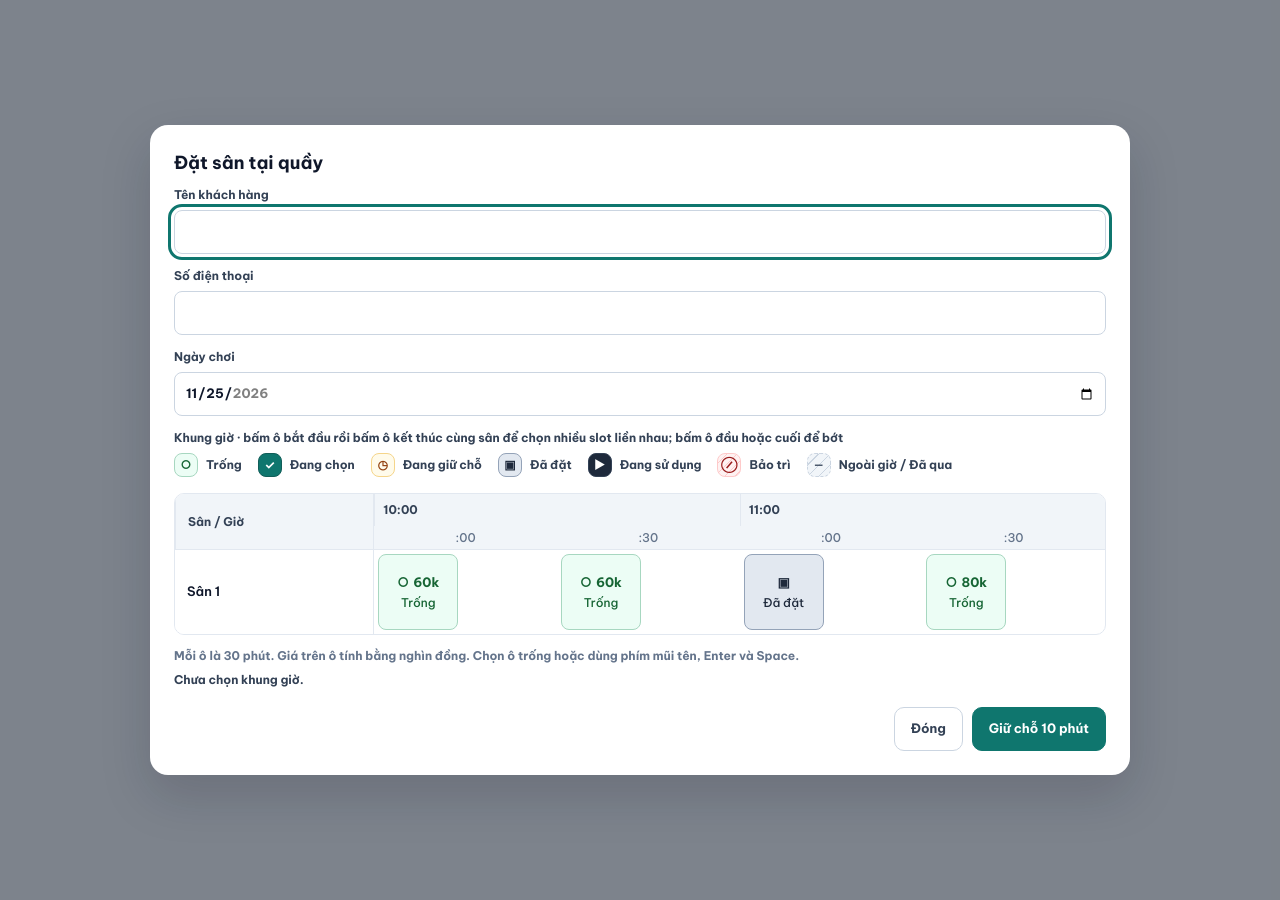
Test: giữ chỗ › đủ thông tin thì giữ chỗ, chuẩn hóa tên và hiện đồng hồ 10 phút
This screenshot has width=1280, height=900.
Expected: the table named "Lịch sân theo khung 30 phút" is shown, top-left (175, 494), bottom-right (1105, 634)
Type "  Nguyễn   Văn An " into the field labelled "Tên khách hàng" at (640, 232), box top-left (174, 210), bottom-right (1106, 254)
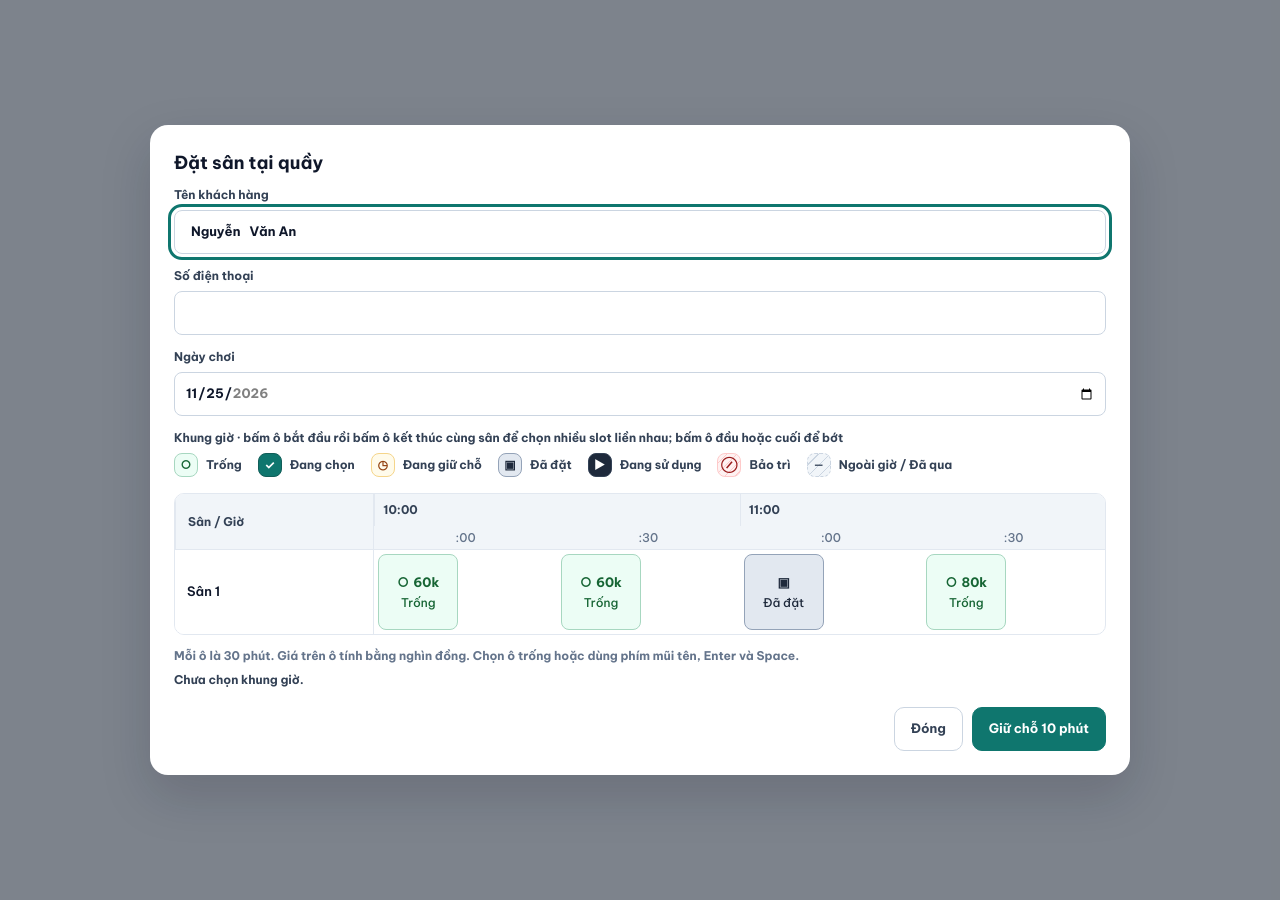
Type "0912345678" into the field labelled "Số điện thoại" at (640, 313), box top-left (174, 291), bottom-right (1106, 335)
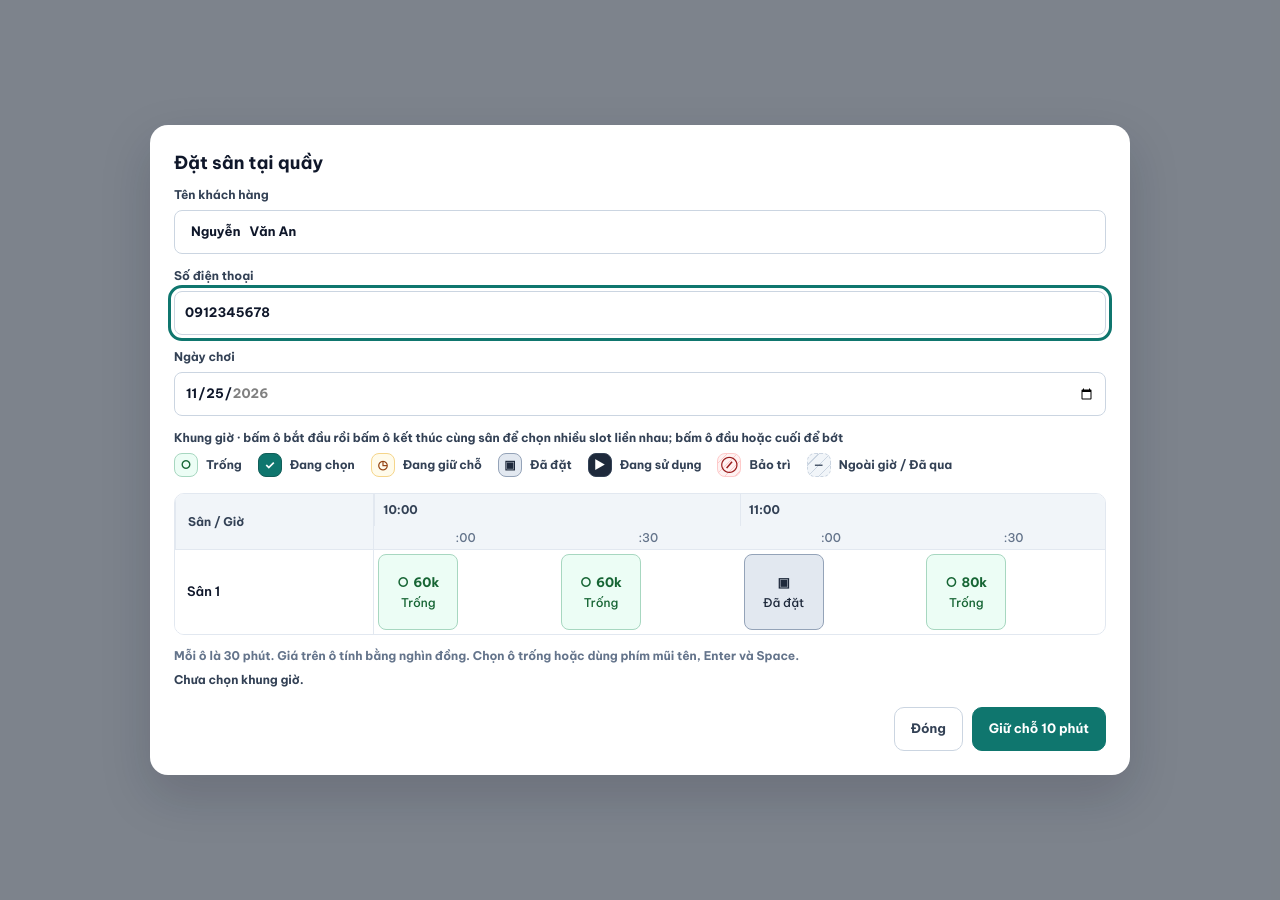
Click the 1st button "○ 60k Trống" at (418, 592), box top-left (378, 554), bottom-right (458, 630)
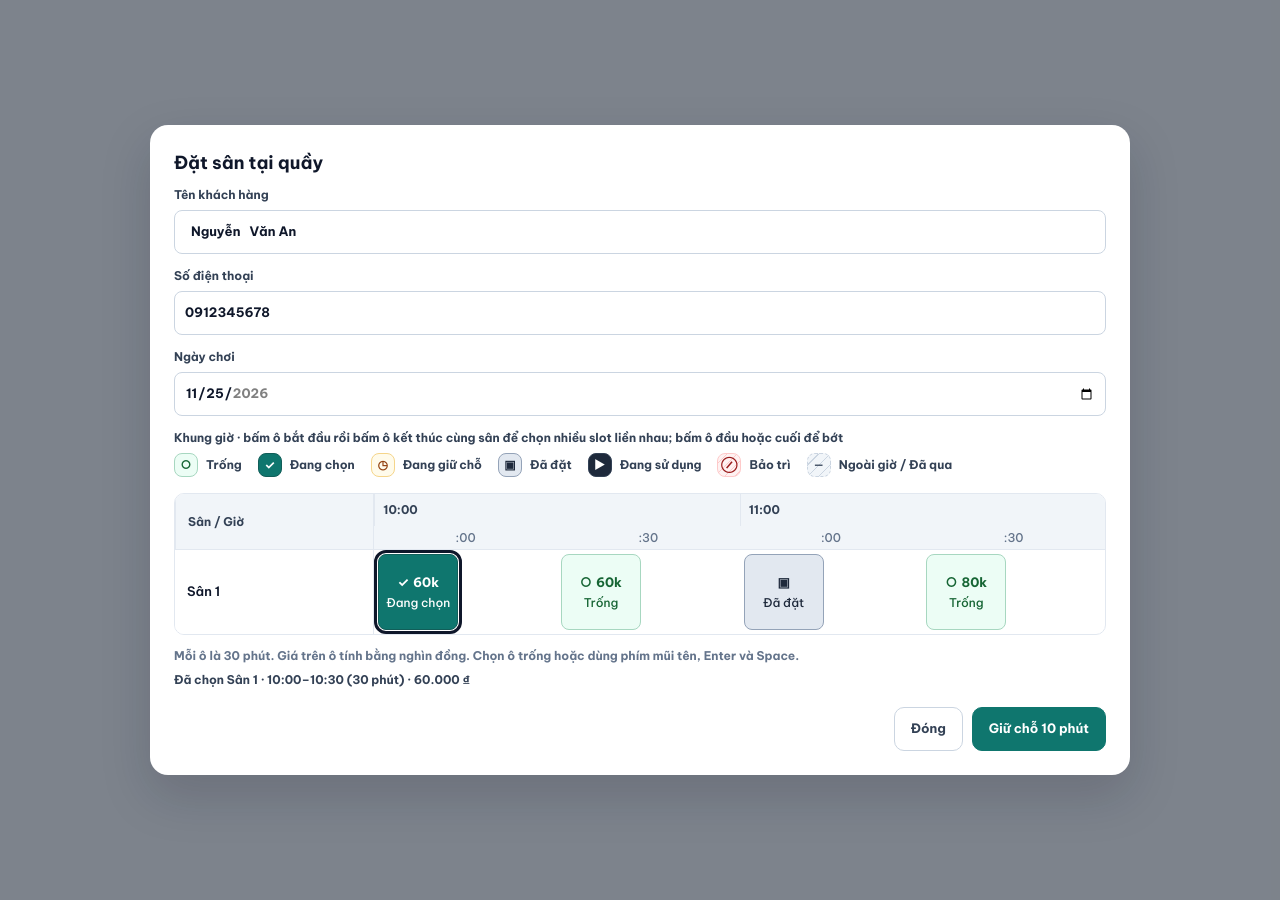
Click the button "○ 60k Trống" at (601, 592), box top-left (561, 554), bottom-right (641, 630)
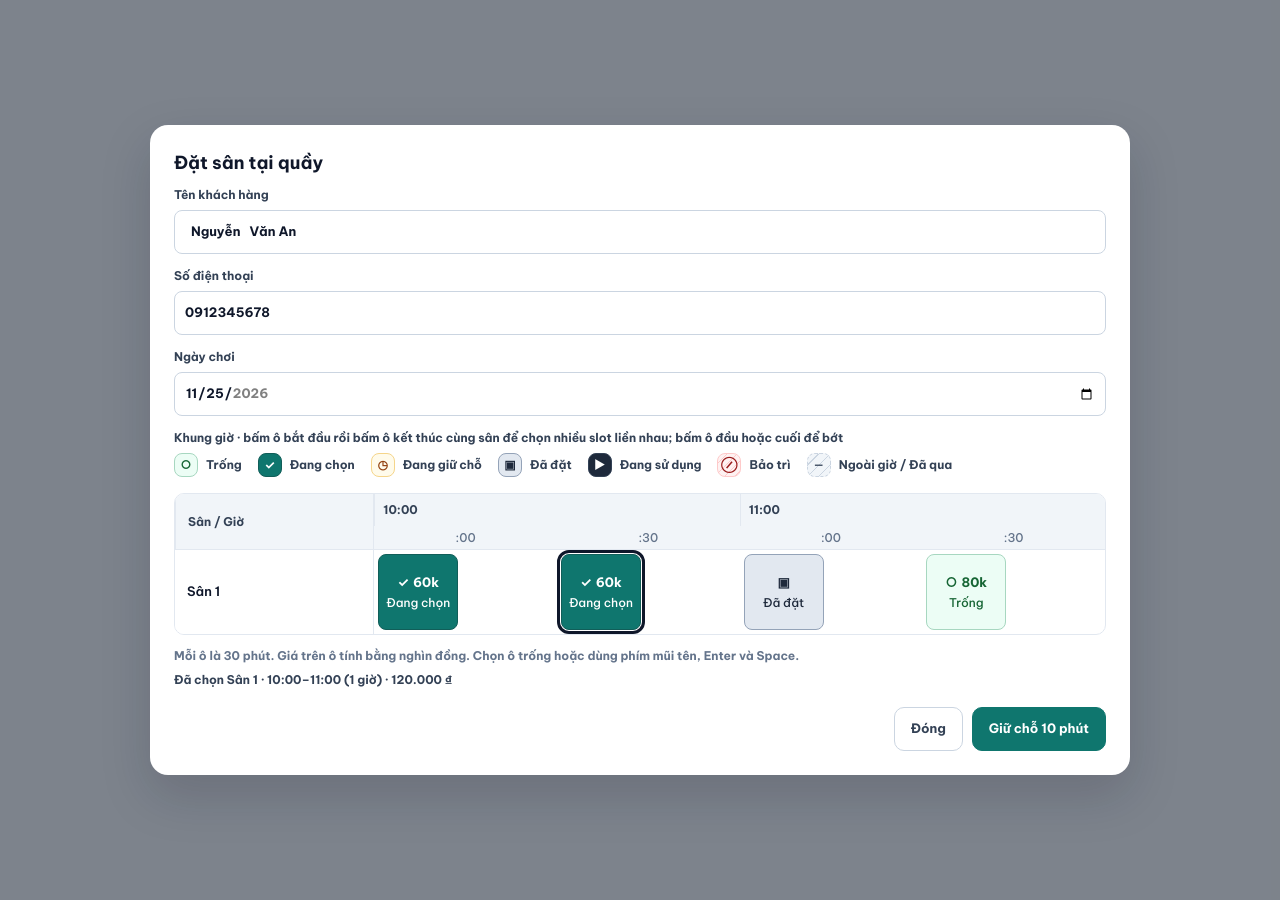
Click the button "Giữ chỗ 10 phút" at (1039, 729), box top-left (972, 707), bottom-right (1106, 751)
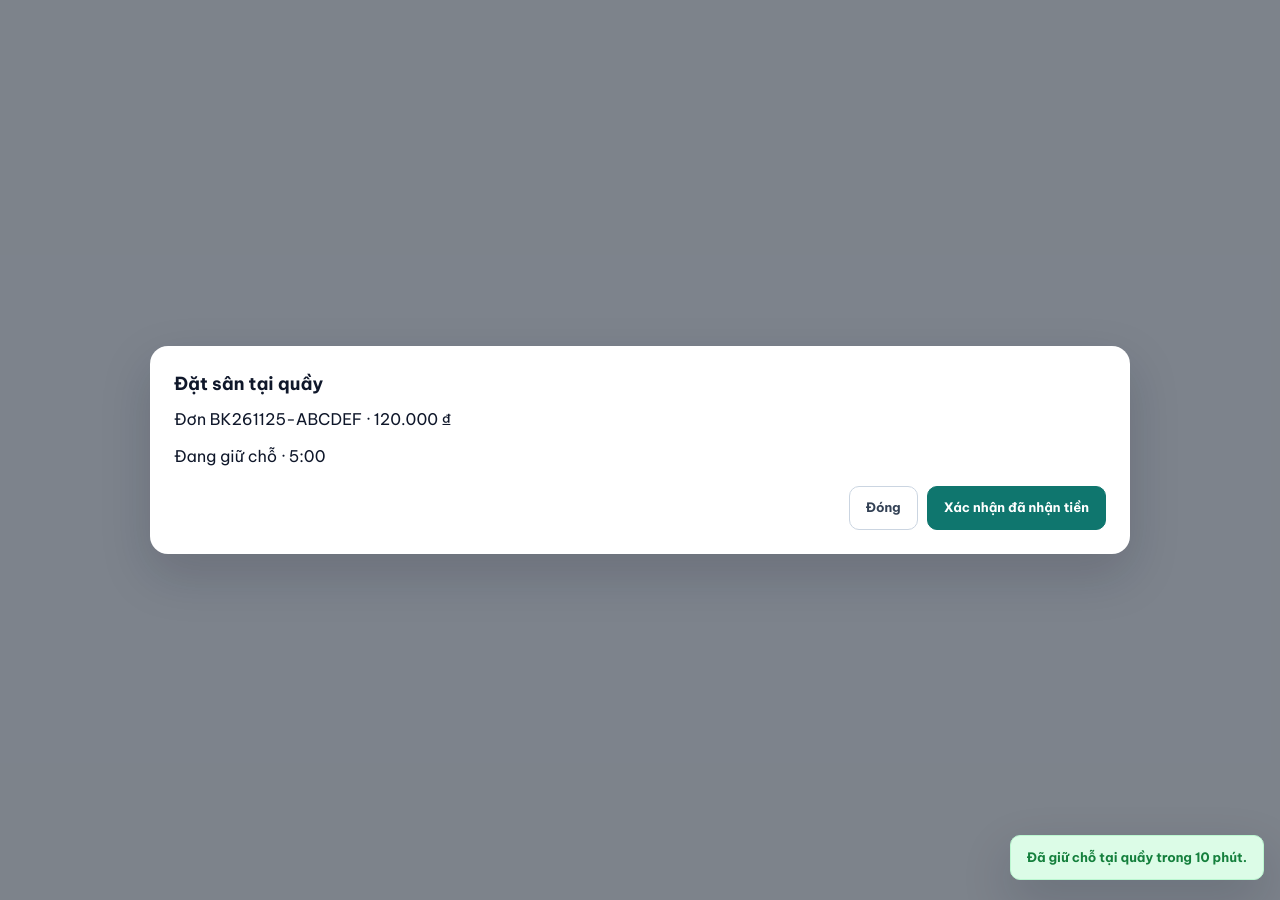
Result: the text "Đơn BK261125-ABCDEF · 120.000 ₫" is shown at top-left (174, 409), bottom-right (451, 429)
Result: the text "Đang giữ chỗ · 5:00" is shown at top-left (174, 446), bottom-right (326, 466)
Result: the text "Đã giữ chỗ tại quầy trong 10 phút." is shown at top-left (1010, 834), bottom-right (1264, 880)
